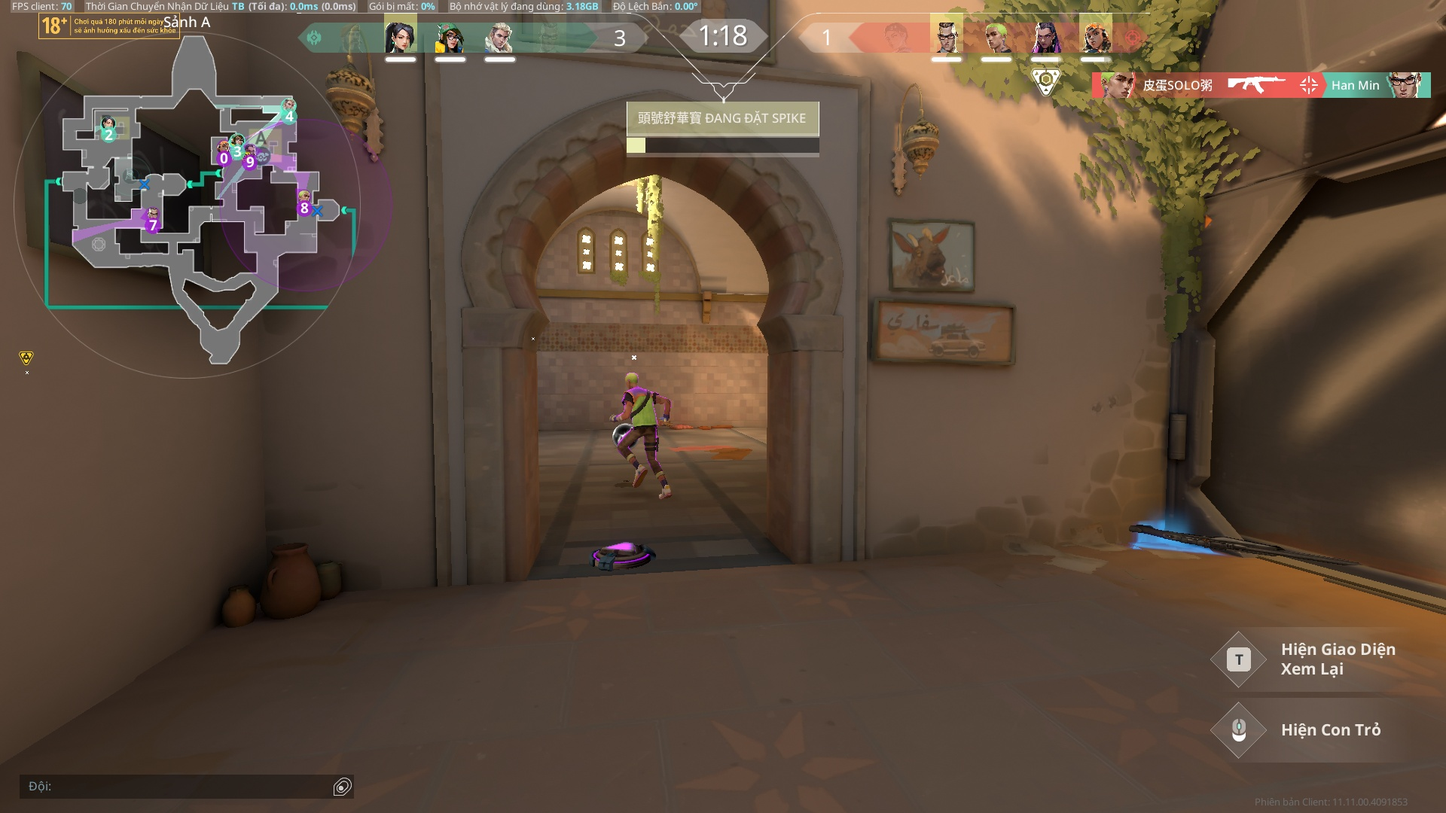body: (627, 387, 659, 426)
head: (622, 372, 640, 386)
